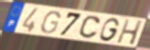4: (20, 7, 40, 34)
7: (58, 12, 83, 37)
C: (77, 15, 102, 40)
G: (99, 17, 121, 43), (40, 10, 62, 35)
H: (116, 19, 145, 47)
